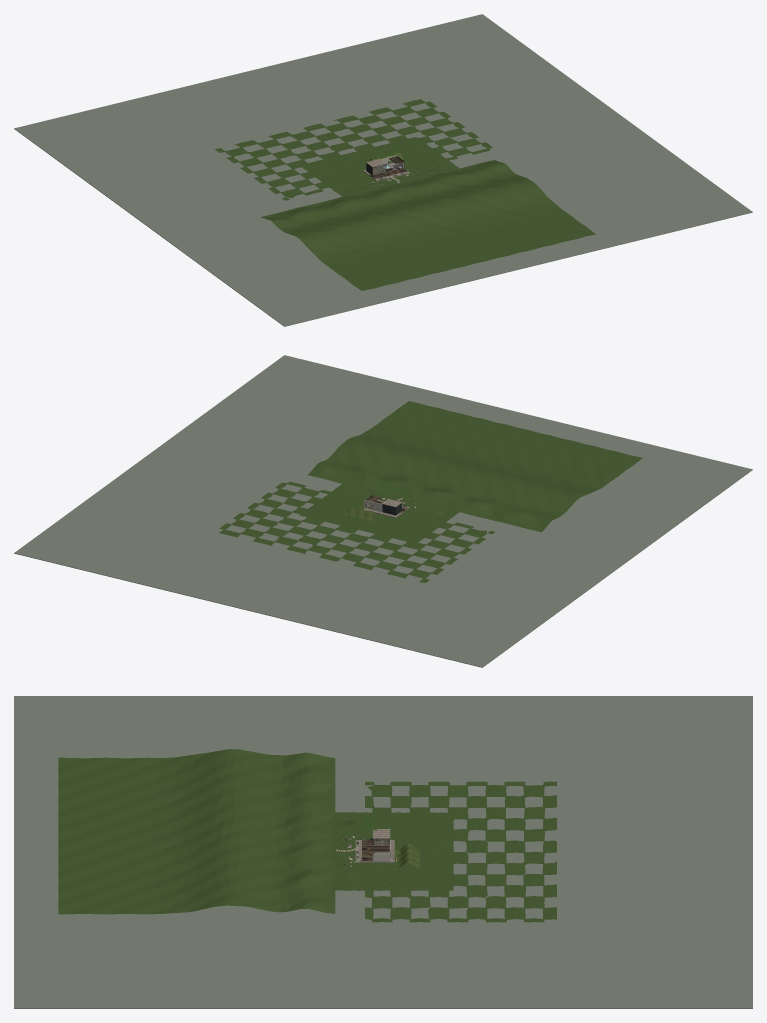
Rendered from sauna.glb.
The picture shows the model from 3 angles, top to bottom: view 1: azimuth 30°, elevation 25°; view 2: azimuth 150°, elevation 25°; view 3: azimuth 270°, elevation 25°; orthographic projection. The views are drawn at different scales.
Parts seen in each view (by area): view 1: Garden ground, Mossy woodland terrain, V5 extended forest floor; view 2: Garden ground, Mossy woodland terrain, V5 extended forest floor; view 3: Garden ground, Mossy woodland terrain, V5 extended forest floor, Foundation floating edge.
Boxes of the visible parts, <box> form: Garden ground: <box>14,14,752,326</box>; Mossy woodland terrain: <box>261,137,595,290</box>; V5 extended forest floor: <box>215,99,492,200</box>; Garden ground: <box>14,355,752,667</box>; Mossy woodland terrain: <box>299,401,642,543</box>; V5 extended forest floor: <box>219,482,495,582</box>; Garden ground: <box>14,696,752,1008</box>; Mossy woodland terrain: <box>58,749,453,914</box>; V5 extended forest floor: <box>365,781,556,922</box>; Foundation floating edge: <box>343,829,396,866</box>.
Size of the model in its own units: 200 by 8.81 by 200.
77 materials, 46 textured.
